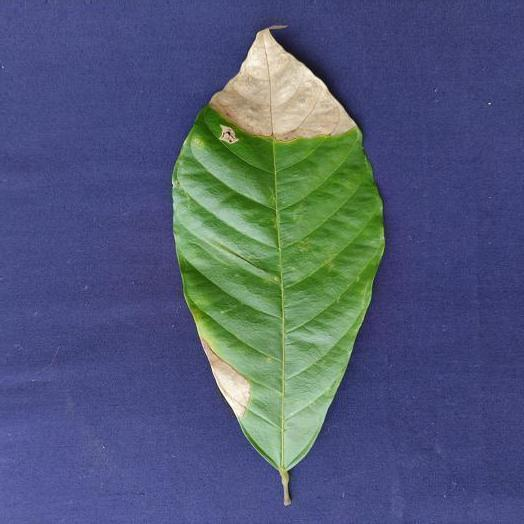Potassium: (173, 28, 384, 504)
